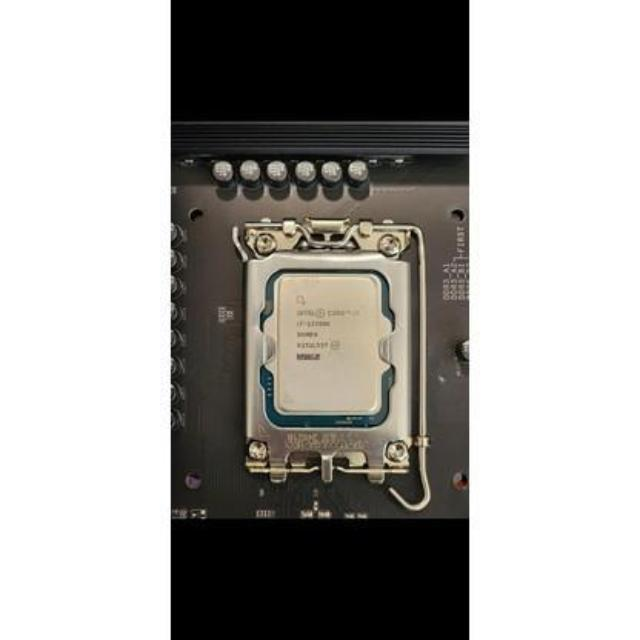CPU: (262, 267, 394, 425)
